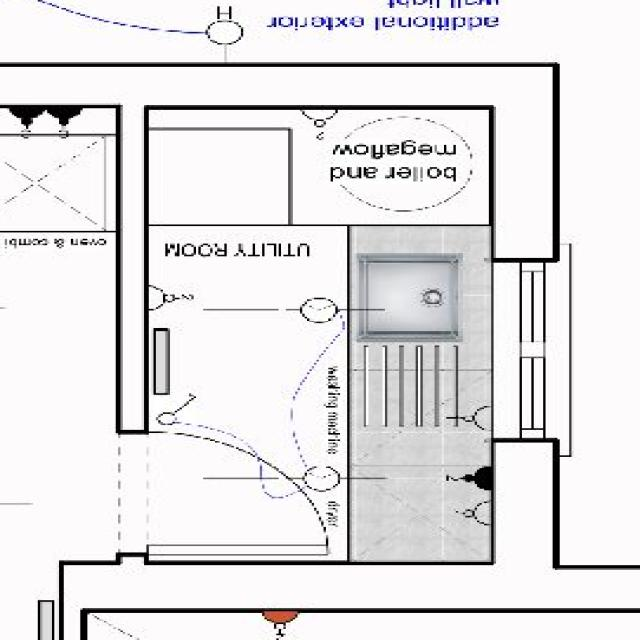Doors: (134, 427, 335, 563)
